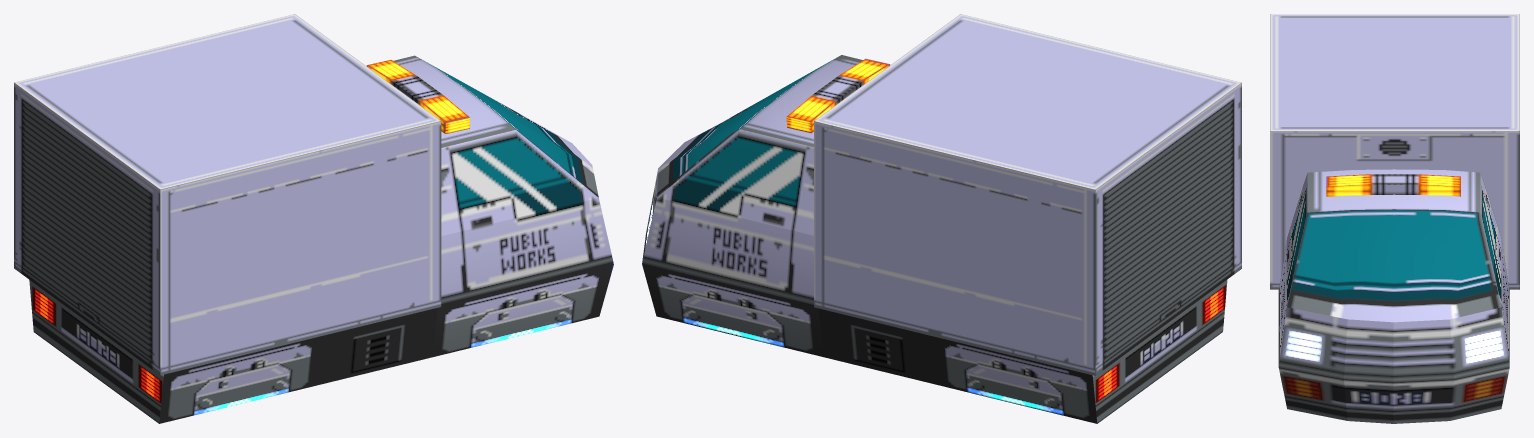
File: publicWorks_boxTruck.DAE
The picture shows the model from 3 angles, left to right: view 1: azimuth 30°, elevation 25°; view 2: azimuth 150°, elevation 25°; view 3: azimuth 270°, elevation 25°; orthographic projection. The views are drawn at different scales.
Visible parts, largest first — view 1: truck_box, public_works; view 2: truck_box, public_works; view 3: public_works, truck_box.
Boxes of the visible parts, x1=… form: truck_box: x1=14, y1=14, x2=441, y2=375; public_works: x1=29, y1=55, x2=613, y2=423; truck_box: x1=814, y1=14, x2=1241, y2=375; public_works: x1=642, y1=55, x2=1227, y2=423; public_works: x1=1278, y1=169, x2=1509, y2=423; truck_box: x1=1270, y1=14, x2=1519, y2=289.
Bounding box in the file's own units: 57.5 × 27.1 × 29.47.
